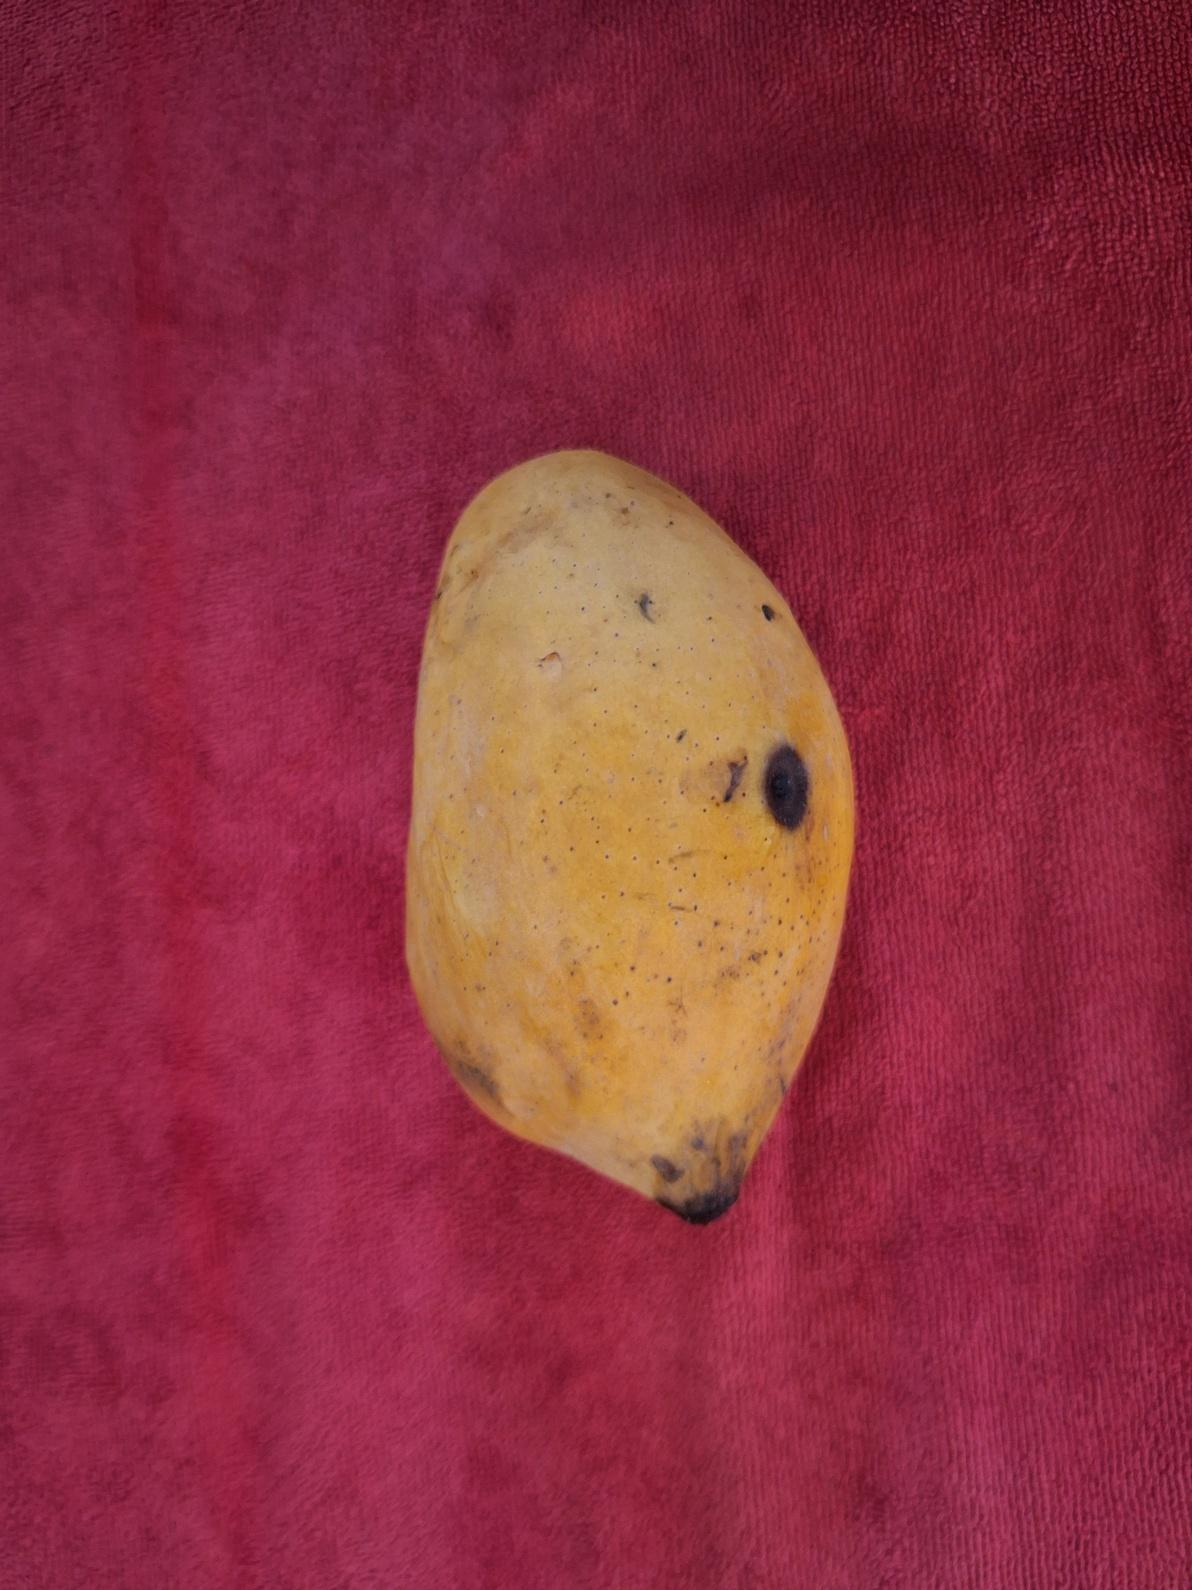mango: (402, 444, 856, 1224)
